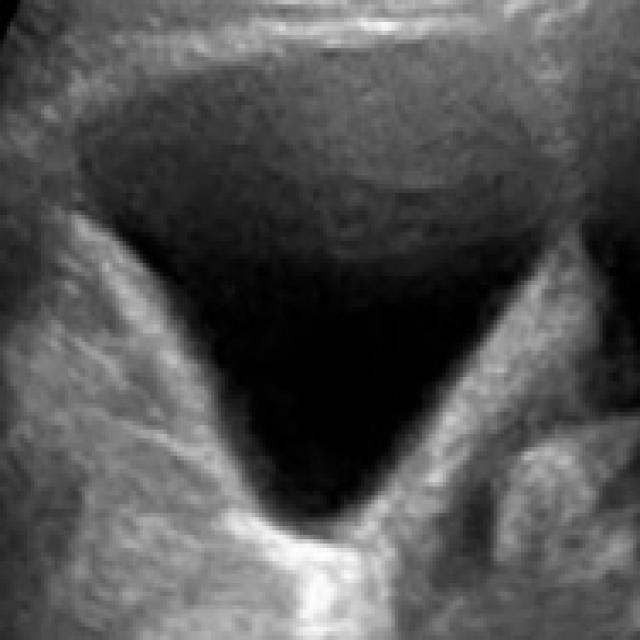bladder: (45, 14, 585, 614)
